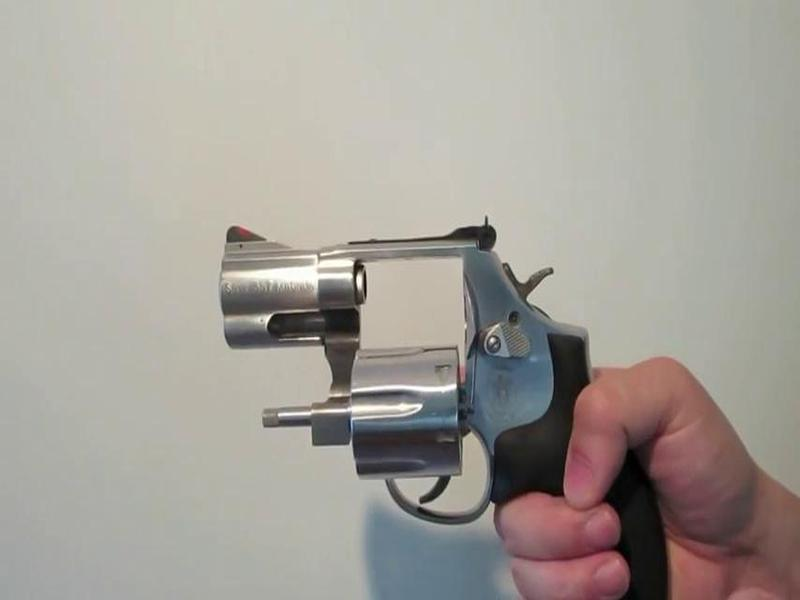Revolver: (199, 204, 704, 595)
